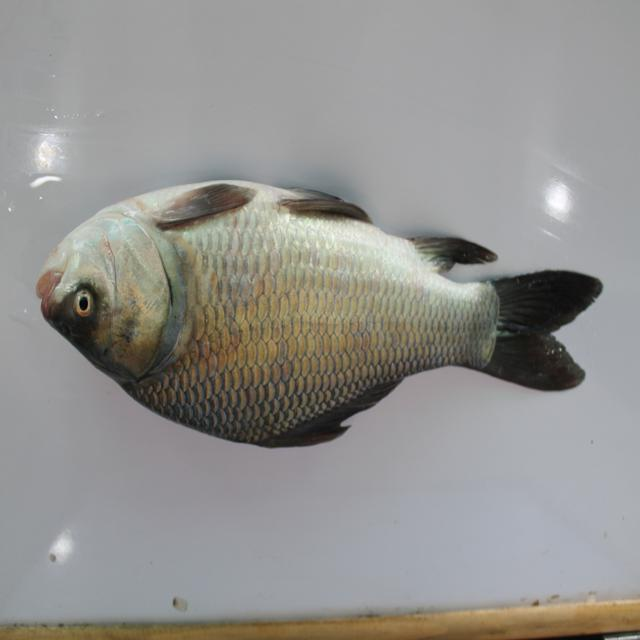Catla: (27, 174, 610, 469)
